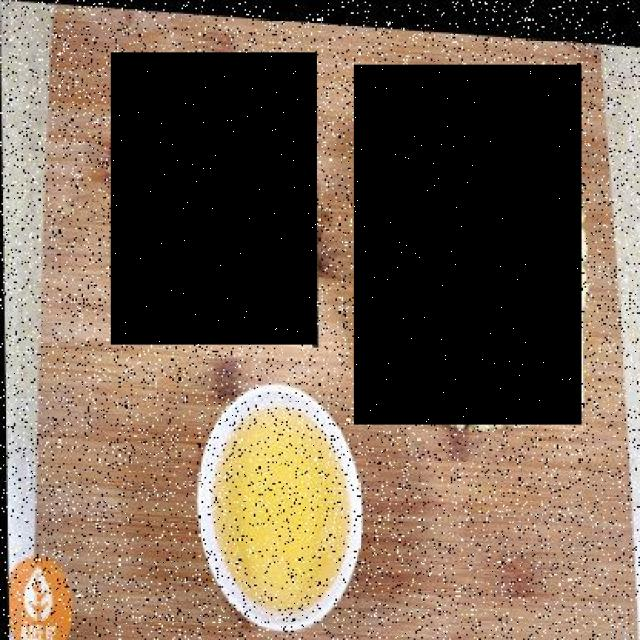Cornflakes: (111, 52, 317, 345)
noodle: (353, 65, 582, 424)
